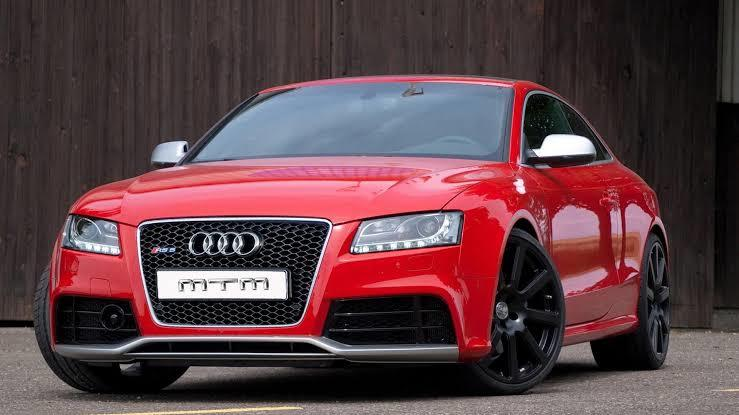audi: (21, 57, 680, 403)
